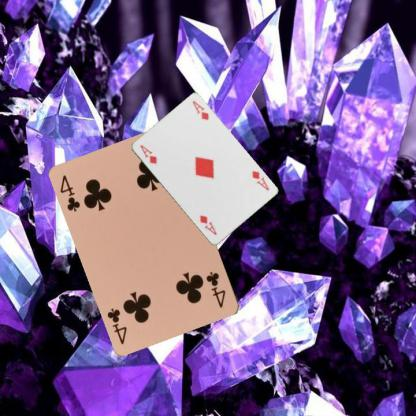4c: (203, 268, 227, 310), (58, 172, 82, 213)
Ad: (249, 168, 270, 192), (137, 142, 158, 165)
